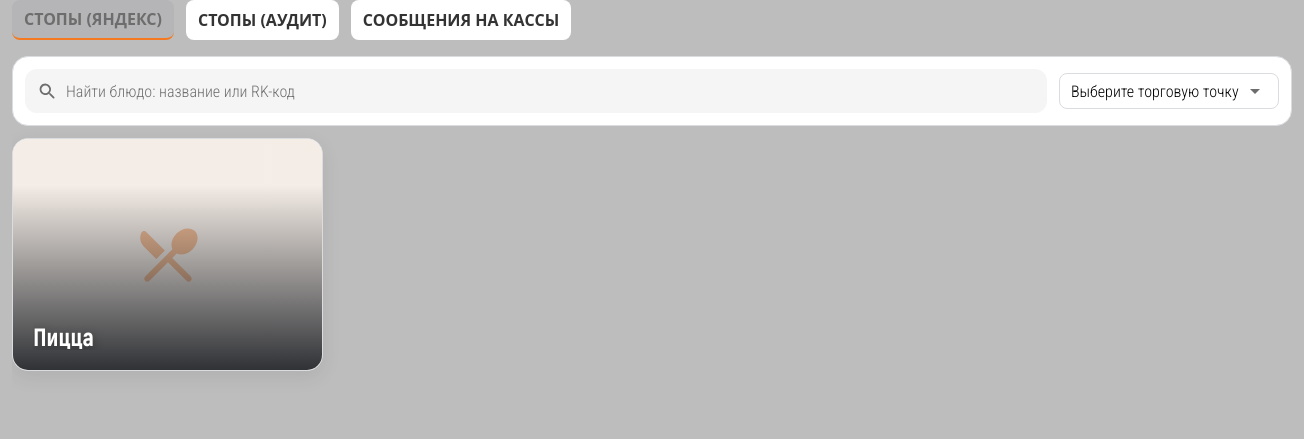
Delivery and Cash access › keeps navigation visible when changing the cash tab
expect the text "Пицца" is shown: met, box [33,321,94,351]
Click the text "Стопы (Аудит)" at (262, 20), box [186,0,339,40]
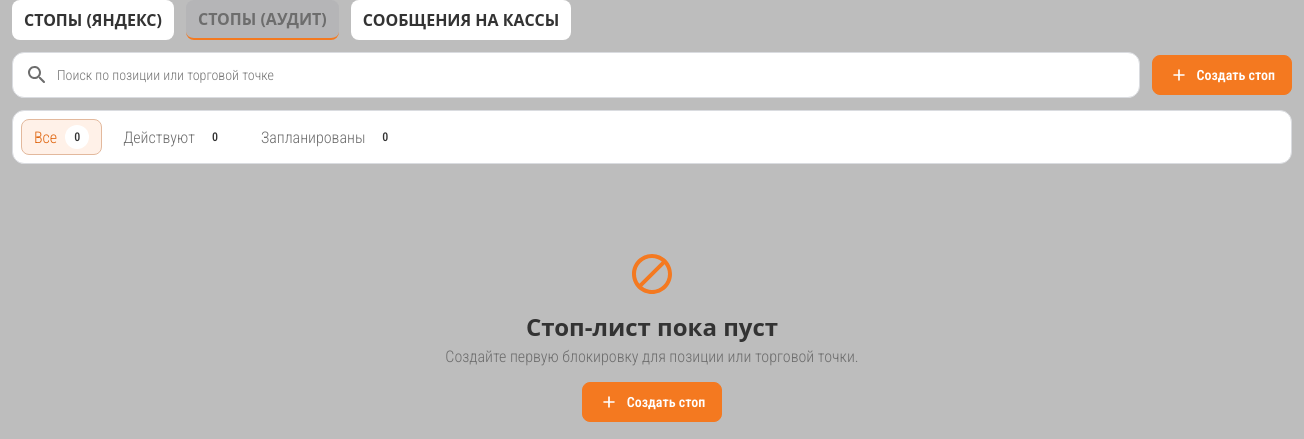
expect the text "Стопы (Яндекс)" is shown: met, box [12,0,174,40]
expect the heading "Стоп-лист пока пуст" is shown: met, box [526,310,778,343]
expect the button "Пицца" is gone: met
